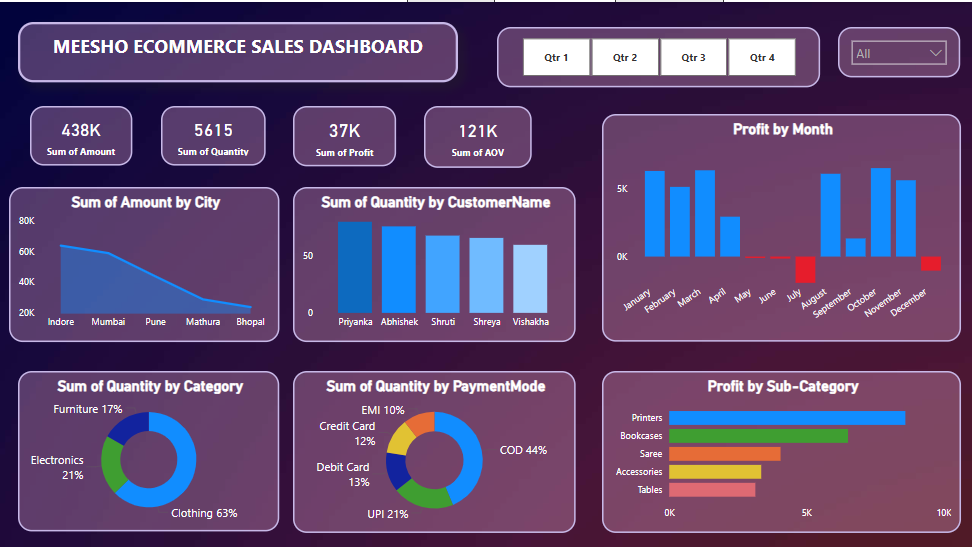

Layout of this report page (visuals, bound fields, positions):
{"tool":"powerbi","page":{"name":"Page 1","canvas":[1280,720],"ordinal":0},"visuals":[{"type":"textbox","box":[23.5,26.4,576,79.3],"z":0},{"type":"columnChart","title":" Profit by Month","fields":{"Category":["Orders.Order Date.Variation.Date Hierarchy.Month"],"Y":["Details.Profit"]},"box":[787.6,146.9,470.2,298.3],"z":1000},{"type":"barChart","title":" Profit by Sub-Category","fields":{"Category":["Details.Sub-Category"],"Y":["Details.Profit"]},"box":[787.6,483.4,470.2,211.6],"z":2000},{"type":"donutChart","fields":{"Category":["Details.PaymentMode"],"Y":["Details.Quantity"]},"box":[383.5,483.4,370.3,211.6],"z":3000},{"type":"donutChart","fields":{"Category":["Details.Category"],"Y":["Details.Quantity"]},"box":[23.5,483.4,342.4,210.1],"z":4000},{"type":"card","fields":{"Values":["Details.Amount"]},"box":[39.7,136.7,133.7,77.9],"z":5000},{"type":"card","fields":{"Values":["Details.Quantity"]},"box":[210.1,136.7,136.7,77.9],"z":6000},{"type":"card","fields":{"Values":["Details.Profit"]},"box":[383.5,136.7,135.2,79.3],"z":7000},{"type":"card","fields":{"Values":["Details.AOV"]},"box":[555.4,136.7,141.1,80.8],"z":8000},{"type":"areaChart","fields":{"Category":["Orders.City"],"Y":["Details.Amount"]},"box":[11.8,242.4,354.1,202.8],"z":9000},{"type":"columnChart","fields":{"Category":["Orders.CustomerName"],"Y":["Details.Quantity"]},"box":[383.5,242.4,370.3,202.8],"z":10000},{"type":"slicer","fields":{"Values":["Orders.State"]},"box":[1097.6,32.3,160.2,66.1],"z":11000},{"type":"slicer","fields":{"Values":["Orders.Order Date.Variation.Date Hierarchy.Quarter"]},"box":[650.9,32.3,423.2,79.3],"z":12000}]}

Visuals, with their boxes in screenshot pixels (x1, y1, x2, y2), scaled from the page's 1280x720 canvas onto the 972x547 screenshot:
textbox: (x1=18, y1=20, x2=455, y2=80)
" Profit by Month" columnChart: (x1=598, y1=112, x2=955, y2=338)
" Profit by Sub-Category" barChart: (x1=598, y1=367, x2=955, y2=528)
donutChart - Details.PaymentMode x Details.Quantity: (x1=291, y1=367, x2=572, y2=528)
donutChart - Details.Category x Details.Quantity: (x1=18, y1=367, x2=278, y2=527)
card - Details.Amount: (x1=30, y1=104, x2=132, y2=163)
card - Details.Quantity: (x1=160, y1=104, x2=263, y2=163)
card - Details.Profit: (x1=291, y1=104, x2=394, y2=164)
card - Details.AOV: (x1=422, y1=104, x2=529, y2=165)
areaChart - Orders.City x Details.Amount: (x1=9, y1=184, x2=278, y2=338)
columnChart - Orders.CustomerName x Details.Quantity: (x1=291, y1=184, x2=572, y2=338)
slicer - Orders.State: (x1=833, y1=25, x2=955, y2=75)
slicer - Orders.Order Date.Variation.Date Hierarchy.Quarter: (x1=494, y1=25, x2=816, y2=85)
